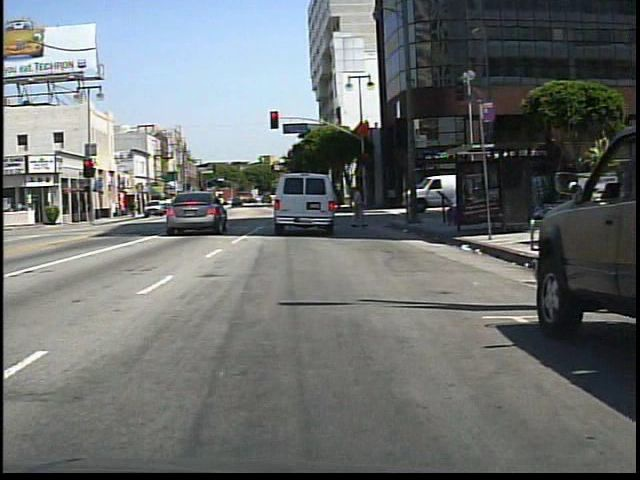person: (349, 183, 373, 232), (177, 192, 193, 218)
